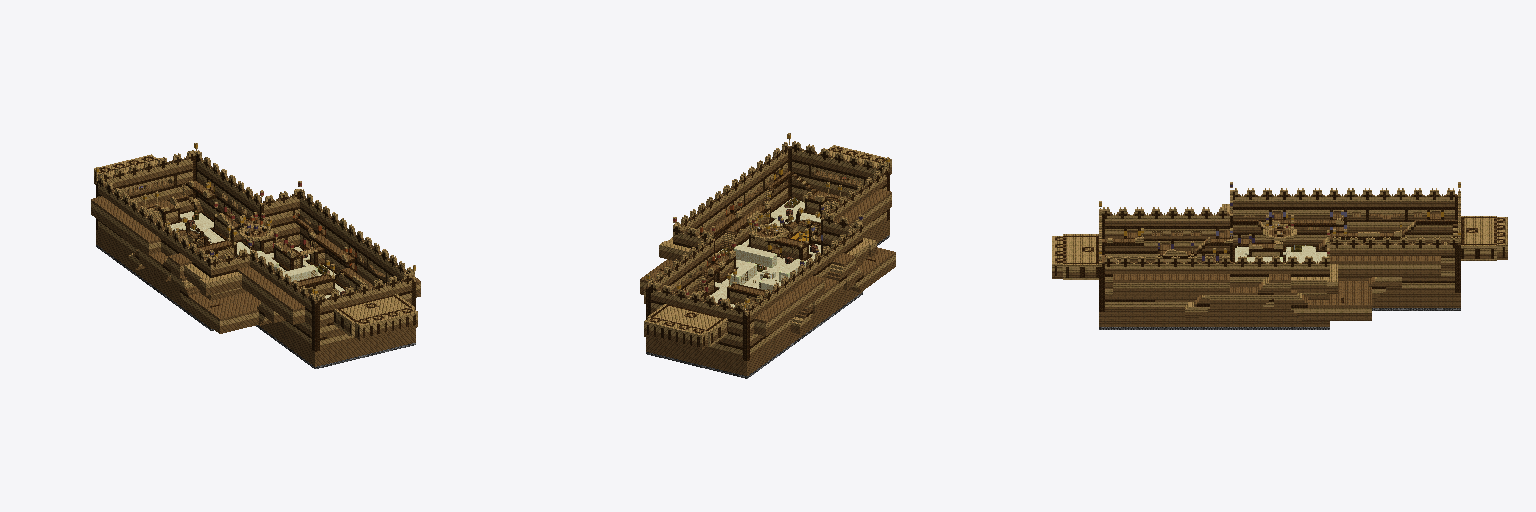
3 renders of one model, left to right at view 1: azimuth 30°, elevation 25°; view 2: azimuth 150°, elevation 25°; view 3: azimuth 270°, elevation 25°, orthographic.
Bounding box in the file's own units: 680 × 315 × 1640.
29 materials, 28 textured.